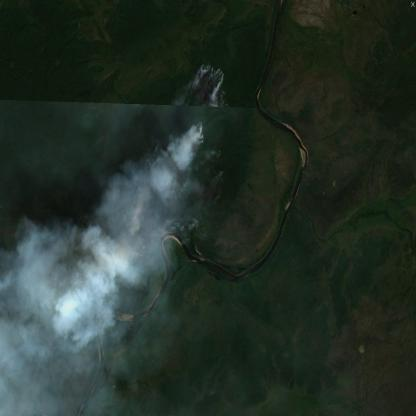fire: (110, 58, 229, 268)
